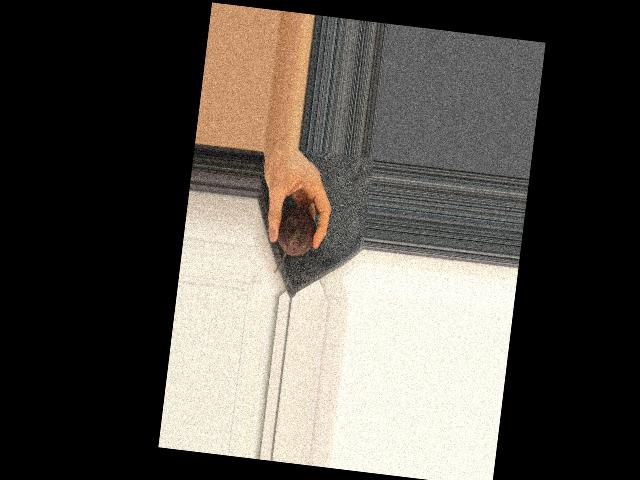beet: (273, 206, 318, 278)
